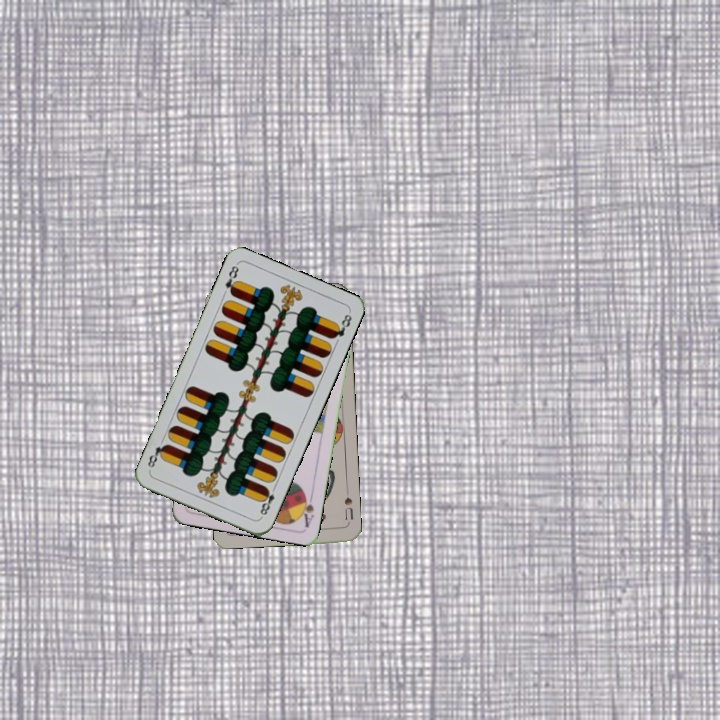E8: (256, 482, 279, 521), (221, 261, 241, 298)
SA: (297, 488, 316, 529)
SU: (340, 486, 356, 526)
